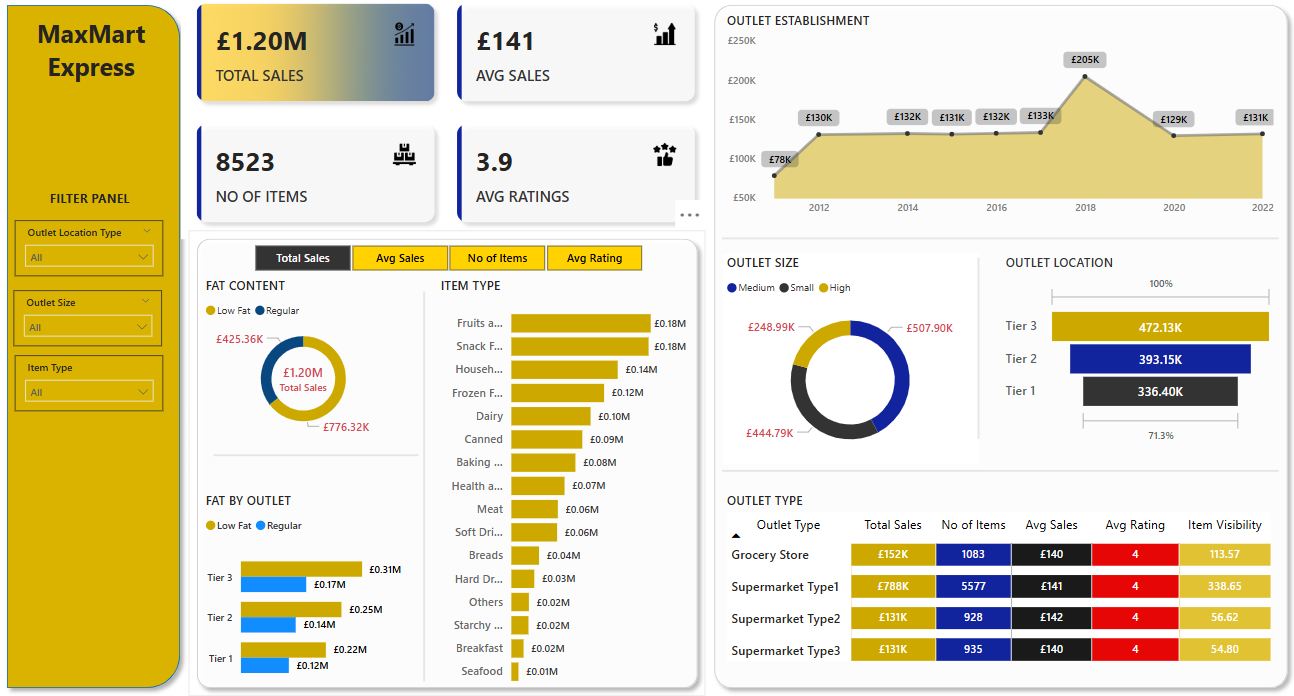

Layout of this report page (visuals, bound fields, positions):
{"tool":"powerbi","page":{"name":"Page 1","canvas":[1400,800],"ordinal":0},"visuals":[{"type":"shape","box":[8,24.1,203.8,750.7],"z":0},{"type":"textbox","box":[30.8,40.2,152.8,92.5],"z":1000},{"type":"cardVisual","fields":{"Data":["BlinkIT Grocery Data.Total Sales","BlinkIT Grocery Data.Avg Sales","BlinkIT Grocery Data.No of Items","BlinkIT Grocery Data.Avg Rating"]},"box":[203.8,14.7,569.7,269.4],"z":2000},{"type":"shape","box":[211.8,274.8,555,500],"z":3000},{"type":"donutChart","title":"FAT CONTENT","fields":{"Y":["BlinkIT Grocery Data.Total Sales"],"Category":["BlinkIT Grocery Data.Item Fat Content"]},"box":[225.2,324.4,219.8,174.3],"z":4000},{"type":"slicer","fields":{"Values":["Metrics.Metrics"]},"box":[257.4,284.2,465.1,40.2],"z":5000},{"type":"cardVisual","fields":{"Data":["BlinkIT Grocery Data.Total Sales"]},"box":[288.2,399.5,93.8,68.4],"z":6000},{"type":"clusteredBarChart","title":"FAT BY OUTLET","fields":{"Y":["BlinkIT Grocery Data.Total Sales"],"Category":["BlinkIT Grocery Data.Outlet Location Type"],"Series":["BlinkIT Grocery Data.Item Fat Content"]},"box":[225.2,555,219.8,218.5],"z":7000},{"type":"shape","box":[238.6,490.6,219.8,50.9],"z":8000},{"type":"shape","box":[458.4,340.5,12.1,418.2],"z":9000},{"type":"barChart","title":"ITEM TYPE","fields":{"Y":["BlinkIT Grocery Data.Total Sales"],"Category":["BlinkIT Grocery Data.Item Type"]},"box":[477.2,324.4,273.5,449.1],"z":10000},{"type":"shape","box":[766.8,24.1,632.7,750.7],"z":11000},{"type":"lineChart","title":"OUTLET ESTABLISHMENT","fields":{"Y":["BlinkIT Grocery Data.Total Sales"],"Category":["BlinkIT Grocery Data.Outlet Establishment Year"]},"box":[784.2,40.2,596.5,227.9],"z":12000},{"type":"shape","box":[784.2,266.8,596.5,33.5],"z":13000},{"type":"donutChart","title":"OUTLET SIZE","fields":{"Y":["BlinkIT Grocery Data.Total Sales"],"Category":["BlinkIT Grocery Data.Outlet Size"]},"box":[784.2,300.3,274.8,225.2],"z":14000},{"type":"shape","box":[1044.2,304.3,29.5,194.4],"z":15000},{"type":"funnel","title":"OUTLET LOCATION","fields":{"Y":["Sum(BlinkIT Grocery Data.Sales)"],"Category":["BlinkIT Grocery Data.Outlet Location Type"]},"box":[1083.1,300.3,297.6,207.8],"z":16000},{"type":"shape","box":[784.2,516.1,596.5,33.5],"z":17000},{"type":"pivotTable","title":"OUTLET TYPE","fields":{"Rows":["BlinkIT Grocery Data.Outlet Type"],"Values":["BlinkIT Grocery Data.Total Sales","BlinkIT Grocery Data.No of Items","BlinkIT Grocery Data.Avg Sales","BlinkIT Grocery Data.Avg Rating","Sum(BlinkIT Grocery Data.Item Visibility)"]},"box":[784.2,555,596.5,194.4],"z":18000},{"type":"slicer","fields":{"Values":["BlinkIT Grocery Data.Outlet Location Type"]},"box":[25.5,264.1,159.5,60.3],"z":19000},{"type":"slicer","fields":{"Values":["BlinkIT Grocery Data.Outlet Size"]},"box":[24.1,339.1,159.5,60.3],"z":20000},{"type":"slicer","fields":{"Values":["BlinkIT Grocery Data.Item Type"]},"box":[25.5,408.8,159.5,60.3],"z":21000},{"type":"textbox","box":[29.5,226.5,152.8,28.2],"z":22000}]}

Visuals, with their boxes on the page's 1400x800 design canvas (x1, y1, x2, y2). These are canvas units, not pixel positions in the 1294x696 screenshot, which may show the page scaled, cropped or inside an application window:
shape: x1=8 y1=24 x2=212 y2=775
textbox: x1=31 y1=40 x2=184 y2=133
cardVisual - BlinkIT Grocery Data.Total Sales x BlinkIT Grocery Data.Avg Sales: x1=204 y1=15 x2=774 y2=284
shape: x1=212 y1=275 x2=767 y2=775
"FAT CONTENT" donutChart: x1=225 y1=324 x2=445 y2=499
slicer - Metrics.Metrics: x1=257 y1=284 x2=722 y2=324
cardVisual - BlinkIT Grocery Data.Total Sales: x1=288 y1=400 x2=382 y2=468
"FAT BY OUTLET" clusteredBarChart: x1=225 y1=555 x2=445 y2=774
shape: x1=239 y1=491 x2=458 y2=542
shape: x1=458 y1=340 x2=470 y2=759
"ITEM TYPE" barChart: x1=477 y1=324 x2=751 y2=774
shape: x1=767 y1=24 x2=1400 y2=775
"OUTLET ESTABLISHMENT" lineChart: x1=784 y1=40 x2=1381 y2=268
shape: x1=784 y1=267 x2=1381 y2=300
"OUTLET SIZE" donutChart: x1=784 y1=300 x2=1059 y2=526
shape: x1=1044 y1=304 x2=1074 y2=499
"OUTLET LOCATION" funnel: x1=1083 y1=300 x2=1381 y2=508
shape: x1=784 y1=516 x2=1381 y2=550
"OUTLET TYPE" pivotTable: x1=784 y1=555 x2=1381 y2=749
slicer - BlinkIT Grocery Data.Outlet Location Type: x1=26 y1=264 x2=185 y2=324
slicer - BlinkIT Grocery Data.Outlet Size: x1=24 y1=339 x2=184 y2=399
slicer - BlinkIT Grocery Data.Item Type: x1=26 y1=409 x2=185 y2=469
textbox: x1=30 y1=226 x2=182 y2=255
